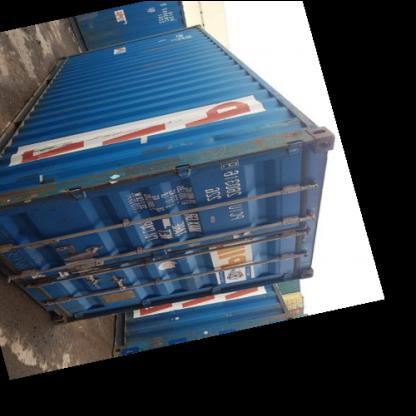Damage: (190, 136, 330, 164), (13, 176, 102, 202), (101, 157, 192, 179)
